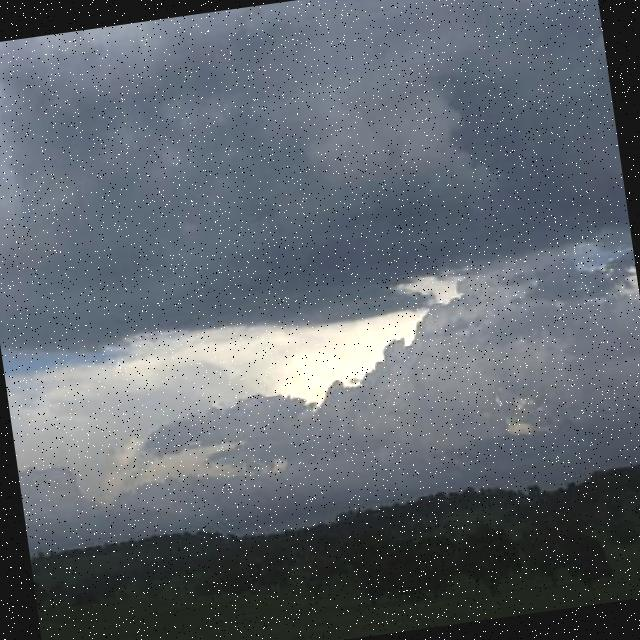As: (1, 16, 640, 524)
